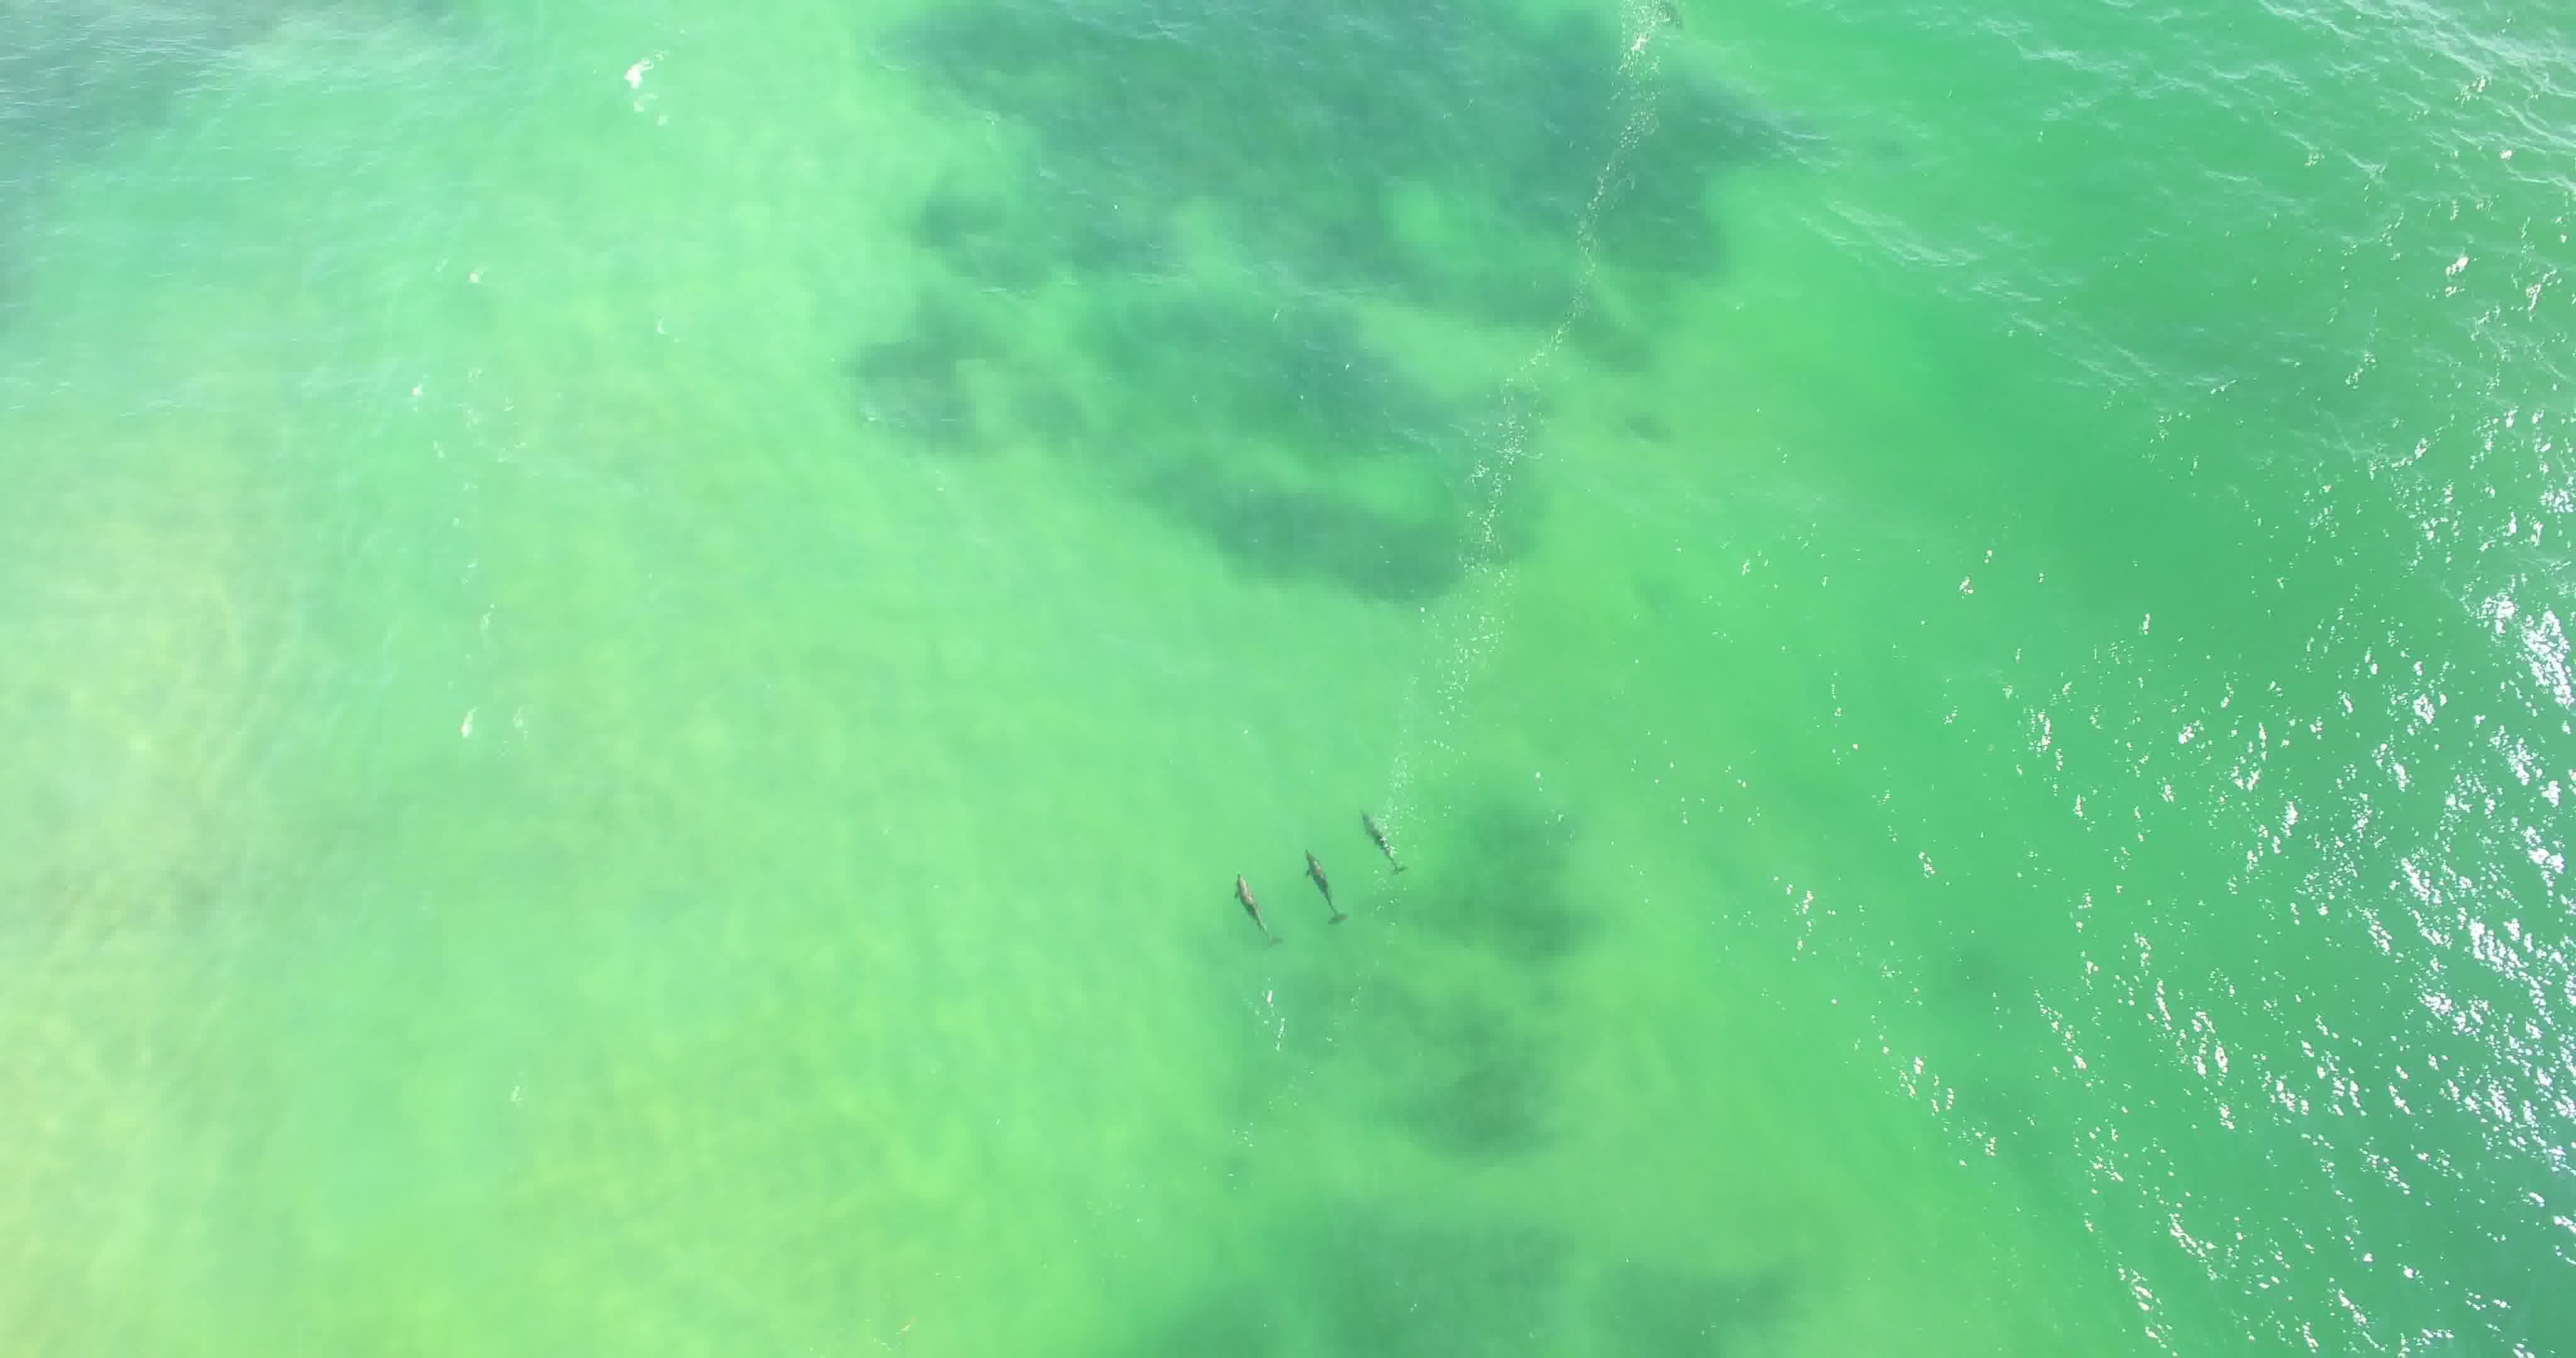dolphin: (1279, 825, 1358, 934), (1331, 787, 1417, 883), (1218, 852, 1286, 947)
